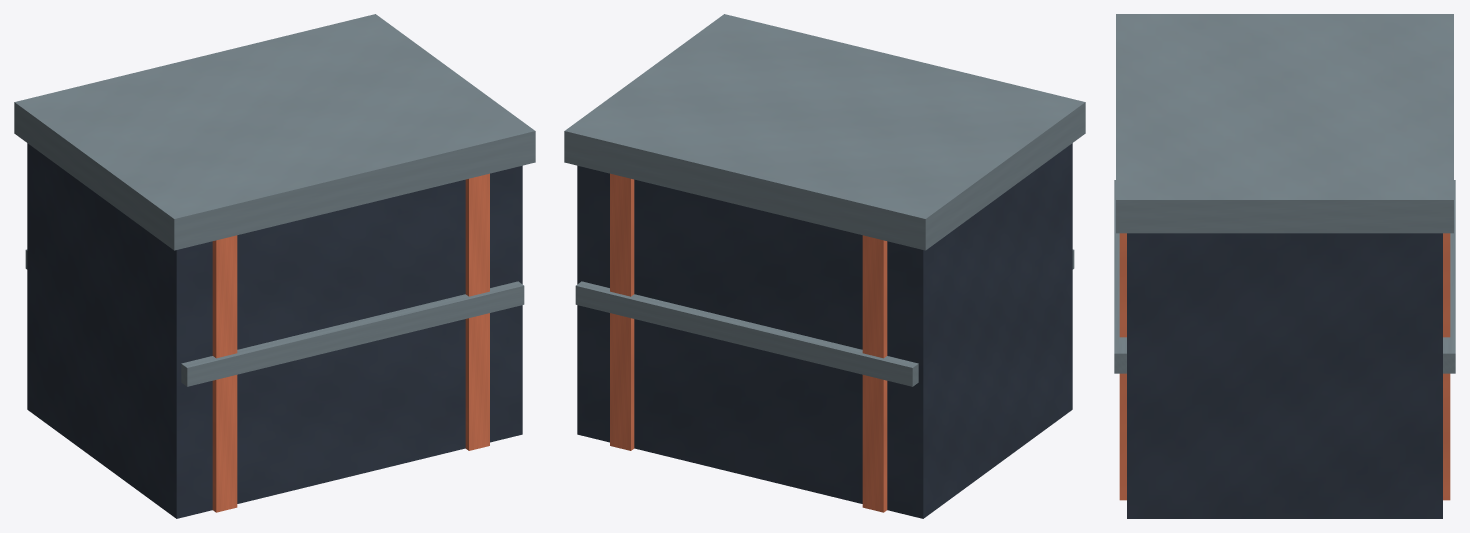
File: atlas100-basalt-util02.lod1.glb
The picture shows the model from 3 angles, left to right: view 1: azimuth 30°, elevation 25°; view 2: azimuth 150°, elevation 25°; view 3: azimuth 270°, elevation 25°; orthographic projection. The views are drawn at different scales.
Visible parts, largest first — view 1: atlas100-basalt-util02:part-000, atlas100-basalt-util02:part-005, atlas100-basalt-util02:part-004, atlas100-basalt-util02:part-001, atlas100-basalt-util02:part-002; view 2: atlas100-basalt-util02:part-000, atlas100-basalt-util02:part-005, atlas100-basalt-util02:part-003, atlas100-basalt-util02:part-001, atlas100-basalt-util02:part-002; view 3: atlas100-basalt-util02:part-000, atlas100-basalt-util02:part-005, atlas100-basalt-util02:part-002, atlas100-basalt-util02:part-003, atlas100-basalt-util02:part-004.
Part boxes in pixels (x1,y1,x2,y2): atlas100-basalt-util02:part-000: (27,143,522,518); atlas100-basalt-util02:part-005: (14,14,535,250); atlas100-basalt-util02:part-004: (181,281,524,386); atlas100-basalt-util02:part-001: (212,235,237,512); atlas100-basalt-util02:part-002: (465,173,489,450); atlas100-basalt-util02:part-000: (577,143,1072,518); atlas100-basalt-util02:part-005: (564,14,1085,250); atlas100-basalt-util02:part-003: (575,281,918,386); atlas100-basalt-util02:part-001: (862,235,887,512); atlas100-basalt-util02:part-002: (610,173,634,450); atlas100-basalt-util02:part-000: (1127,233,1442,518); atlas100-basalt-util02:part-005: (1116,14,1453,233); atlas100-basalt-util02:part-002: (1119,233,1450,500); atlas100-basalt-util02:part-003: (1443,180,1455,373); atlas100-basalt-util02:part-004: (1114,180,1126,373).
Bounding box in the file's own units: 1.26 × 1.01 × 0.9728.
3 materials, 3 textured.
